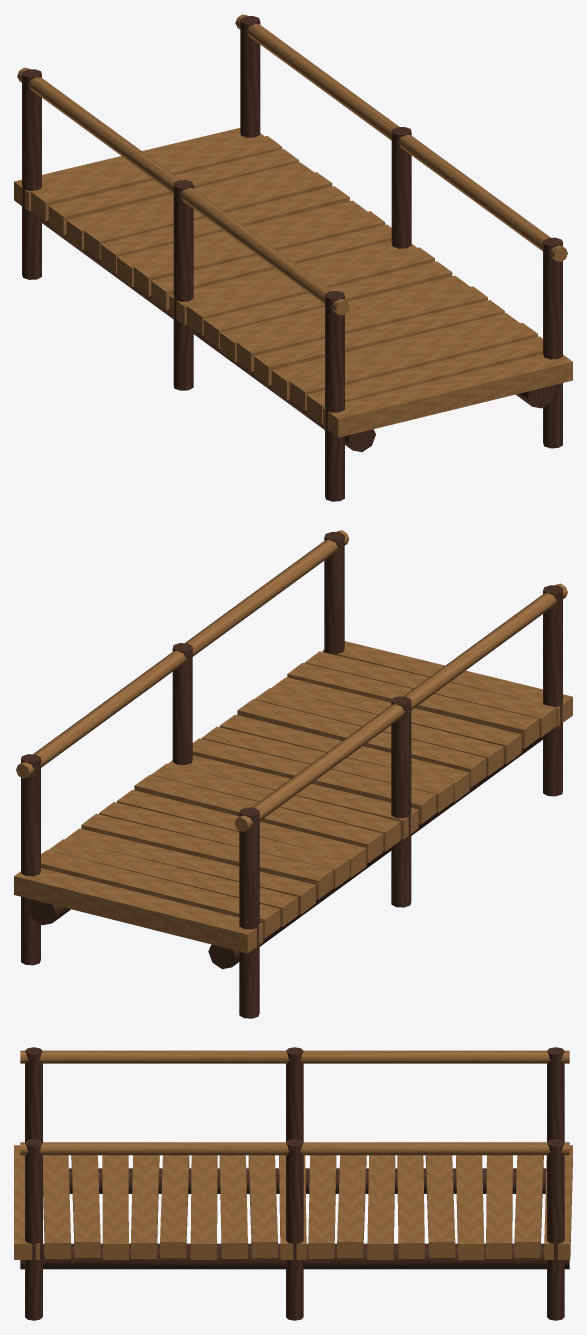
The model's file is plank_bridge.glb.
The picture shows the model from 3 angles, top to bottom: view 1: azimuth 30°, elevation 25°; view 2: azimuth 150°, elevation 25°; view 3: azimuth 270°, elevation 25°; orthographic projection. The views are drawn at different scales.
Visible parts, largest first — view 1: plank_bridge; view 2: plank_bridge; view 3: plank_bridge.
Boxes of the visible parts, <box> form: plank_bridge: <box>14,14,572,501</box>; plank_bridge: <box>14,530,572,1018</box>; plank_bridge: <box>14,1047,572,1320</box>.
Bounding box in the file's own units: 1.71 × 1.4 × 4.07.
Materials: 2 (2 with a texture image).
